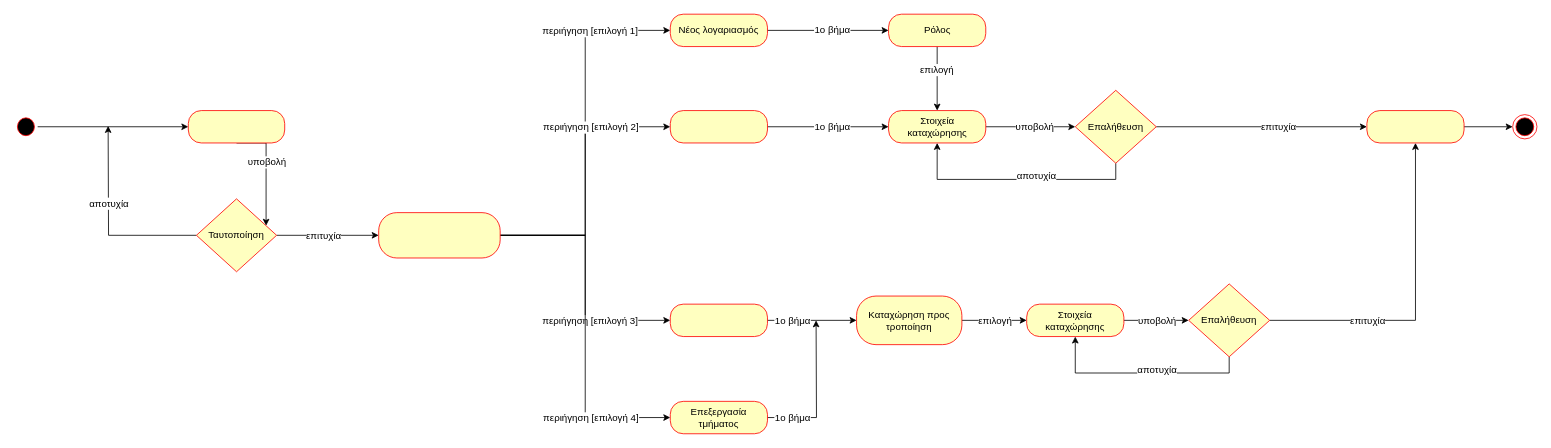
Some shapes in this 1551 by 448 pixel diagram are drawn without their labels. Here are the shapes that lost their labels. From the top down, the centre of each, then its label:
At (x=236, y=126): "Σύνδεση με στοιχεία super admin".
At (x=718, y=126): "Νέο τμήμα".
At (x=1415, y=126): "Αποθήκευση".
At (x=439, y=235): "Επισκόπηση εργαλείων διαχείρισης".
At (x=718, y=320): "Επεξεργασία λογαριασμού".
